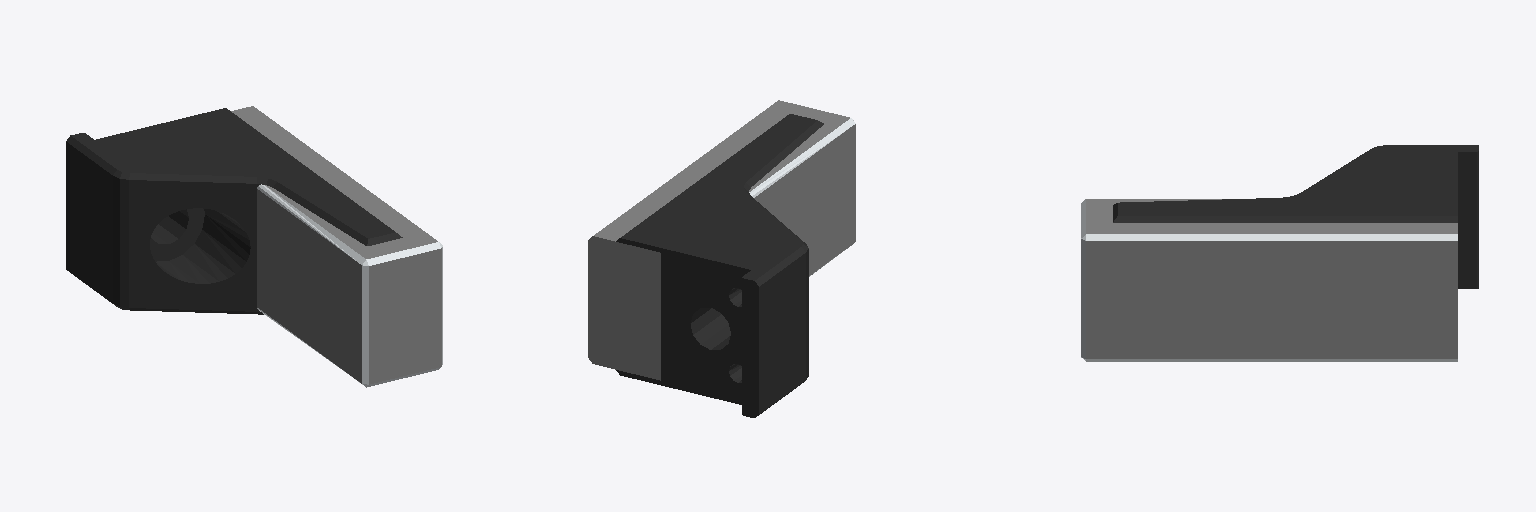
File: finger_tip.obj
The picture shows the model from 3 angles: view 1: azimuth 30°, elevation 25°; view 2: azimuth 150°, elevation 25°; view 3: azimuth 270°, elevation 25°; orthographic projection.
Visible parts, largest first — view 1: mesh3, mesh1, mesh2; view 2: mesh3, mesh1, mesh2; view 3: mesh1, mesh3, mesh2.
Part boxes in pixels (x1,y1,x2,y2): mesh3: (66, 108, 402, 314); mesh1: (231, 106, 441, 384); mesh2: (257, 184, 442, 387); mesh3: (616, 114, 823, 417); mesh1: (588, 100, 855, 380); mesh2: (749, 118, 855, 276); mesh1: (1086, 199, 1457, 358); mesh3: (1113, 145, 1478, 288); mesh2: (1081, 199, 1457, 361).
Size of the model in its own units: 20 by 14.5 by 38.